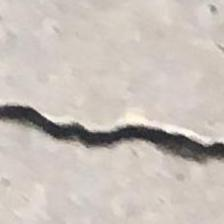Crack: (0, 91, 224, 184)
